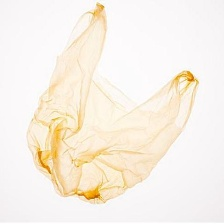plastic_bag: (18, 0, 204, 207)
